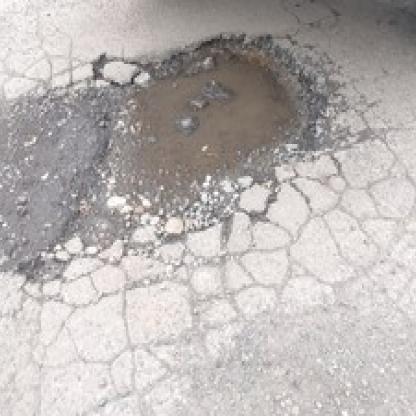pothole: (128, 35, 318, 188)
